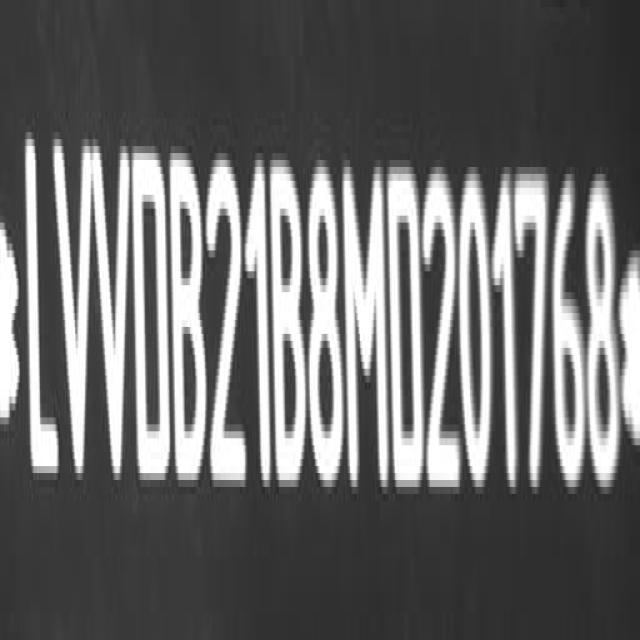0: (458, 165, 492, 500)
1: (492, 144, 519, 496), (248, 155, 274, 496)
2: (210, 152, 246, 496), (425, 162, 460, 499)
6: (553, 168, 588, 492)
7: (516, 162, 552, 499)
8: (307, 157, 344, 493), (587, 175, 621, 491)
B: (168, 137, 208, 481), (272, 153, 308, 490)
D: (132, 142, 169, 487), (392, 162, 426, 494)
L: (24, 137, 61, 475)
M: (344, 158, 389, 494)
V: (94, 136, 134, 488), (55, 132, 95, 484)
